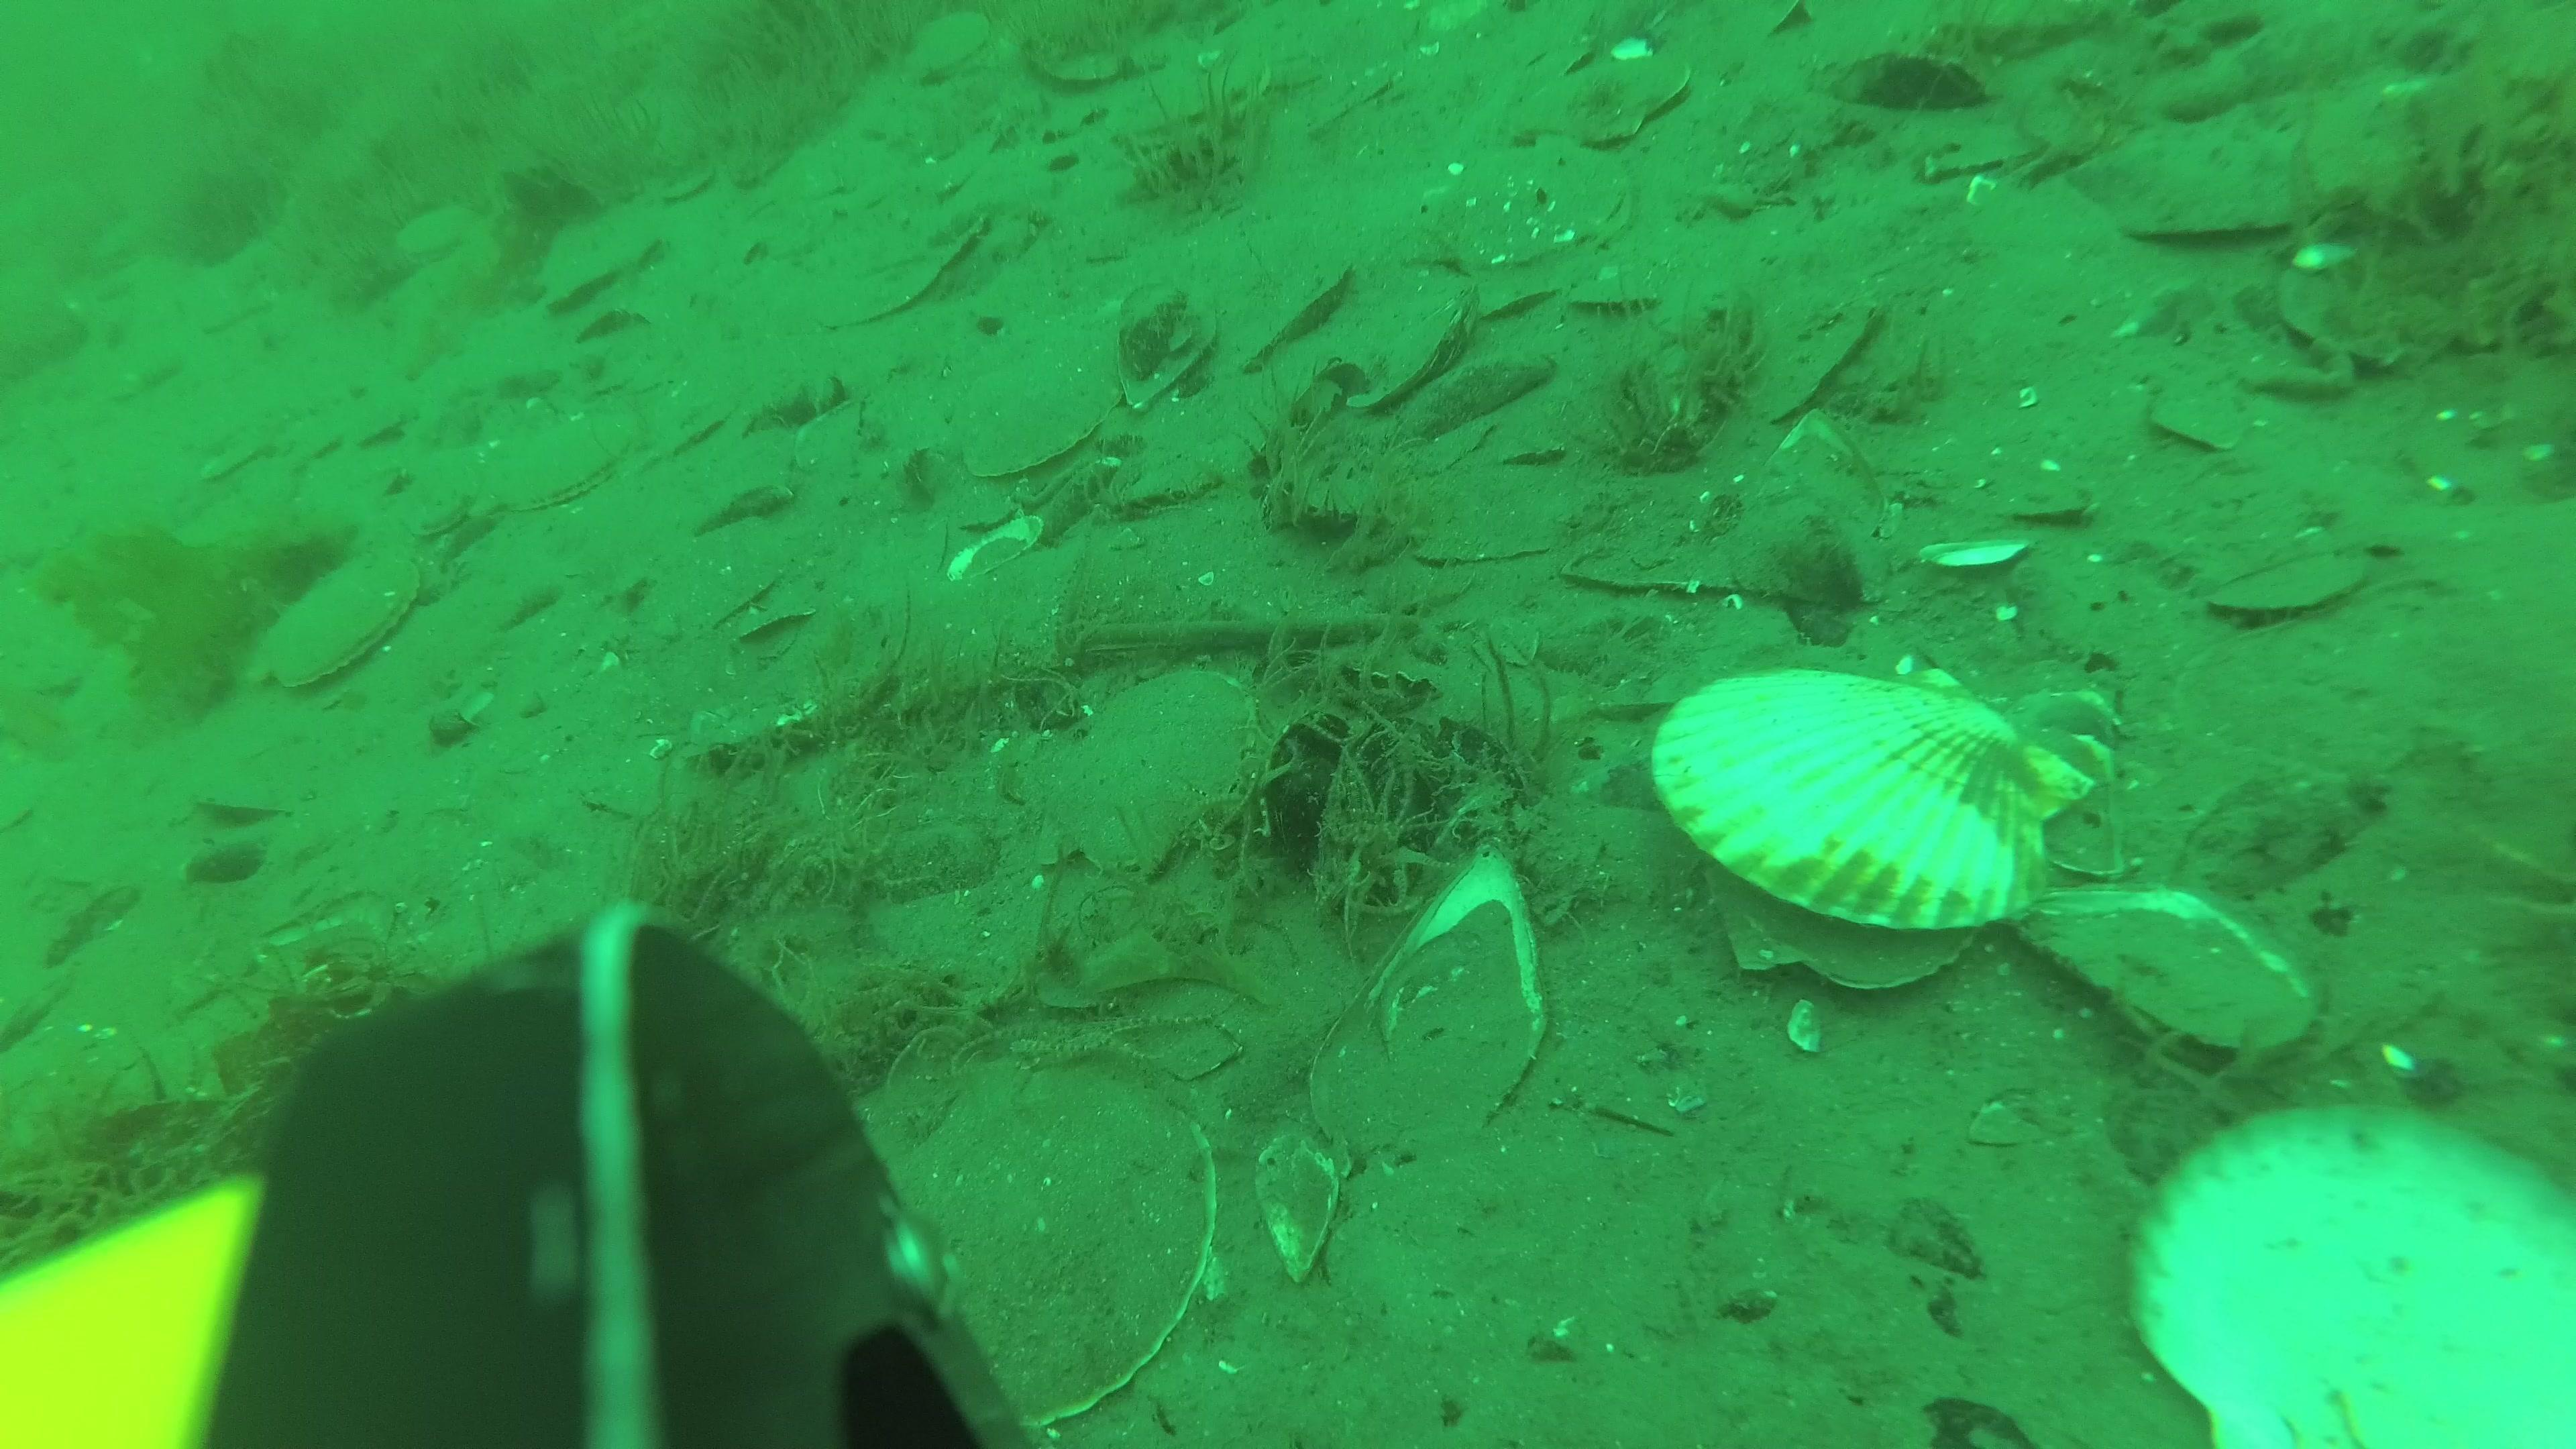scallop: (1654, 637, 2089, 991), (1019, 649, 1265, 872), (1433, 134, 1635, 269), (237, 561, 426, 702), (950, 350, 1122, 478), (1514, 51, 1697, 157), (494, 402, 644, 517), (1341, 299, 1481, 410), (2206, 540, 2365, 632), (1231, 262, 1355, 368), (547, 228, 665, 317), (1463, 257, 1546, 322), (1568, 265, 1665, 320), (405, 490, 471, 543)
